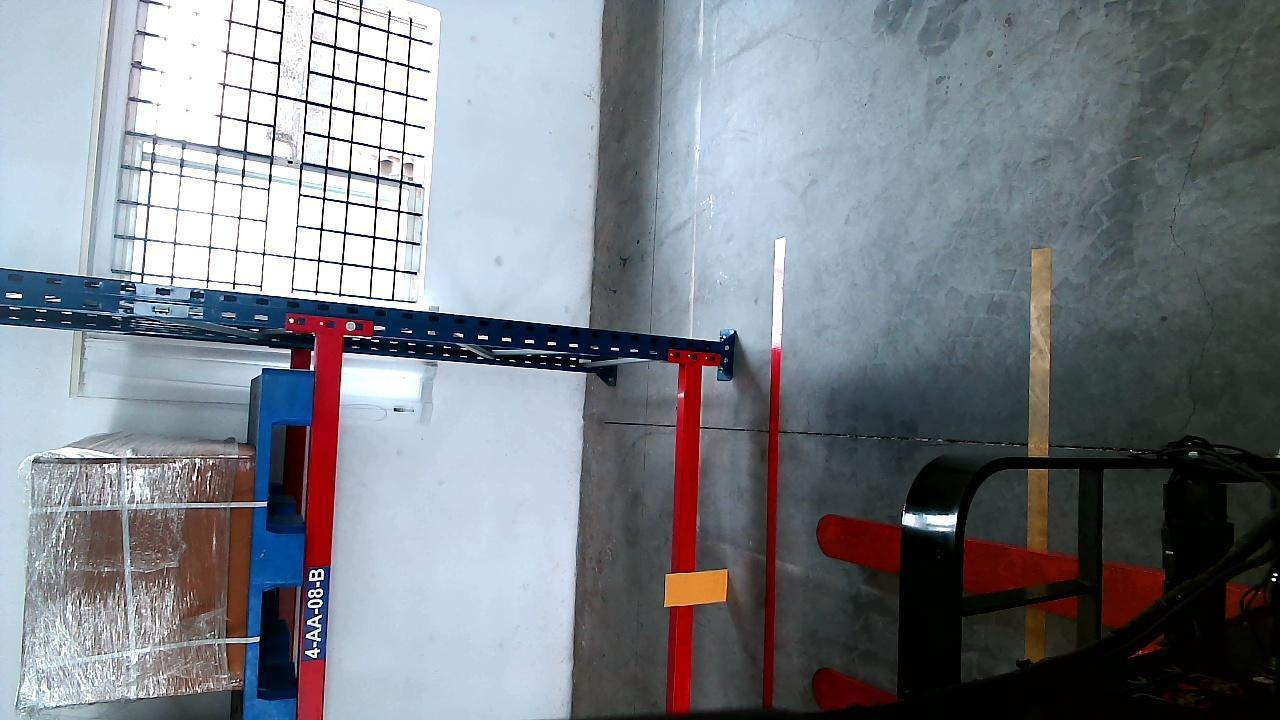h_rack: (299, 335, 346, 720), (671, 361, 704, 711)
orange_strip: (665, 570, 728, 605)
red_line: (757, 234, 787, 716)
small_pallet: (246, 365, 312, 720)
yellow_line: (1024, 247, 1054, 665)
